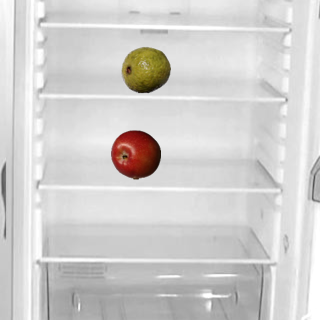Apple Braeburn: (110, 129, 160, 179)
Guava: (120, 44, 170, 94)
